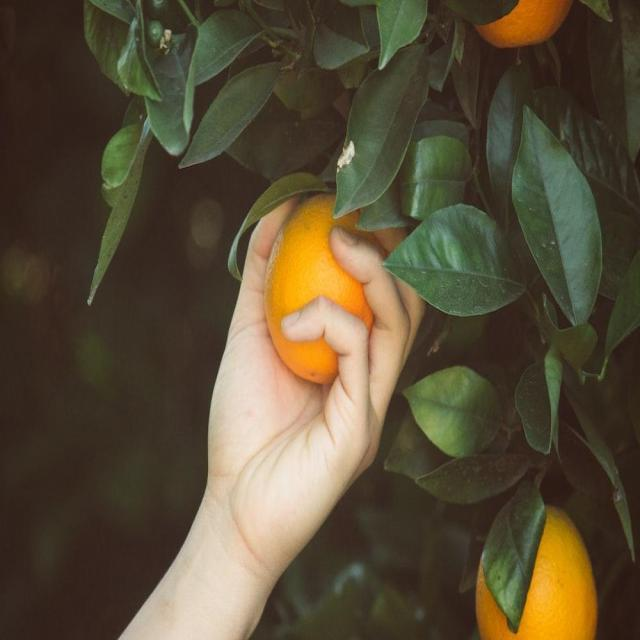Jeruk Sudah Matang: (267, 189, 398, 387), (476, 499, 600, 636), (456, 0, 574, 48)
